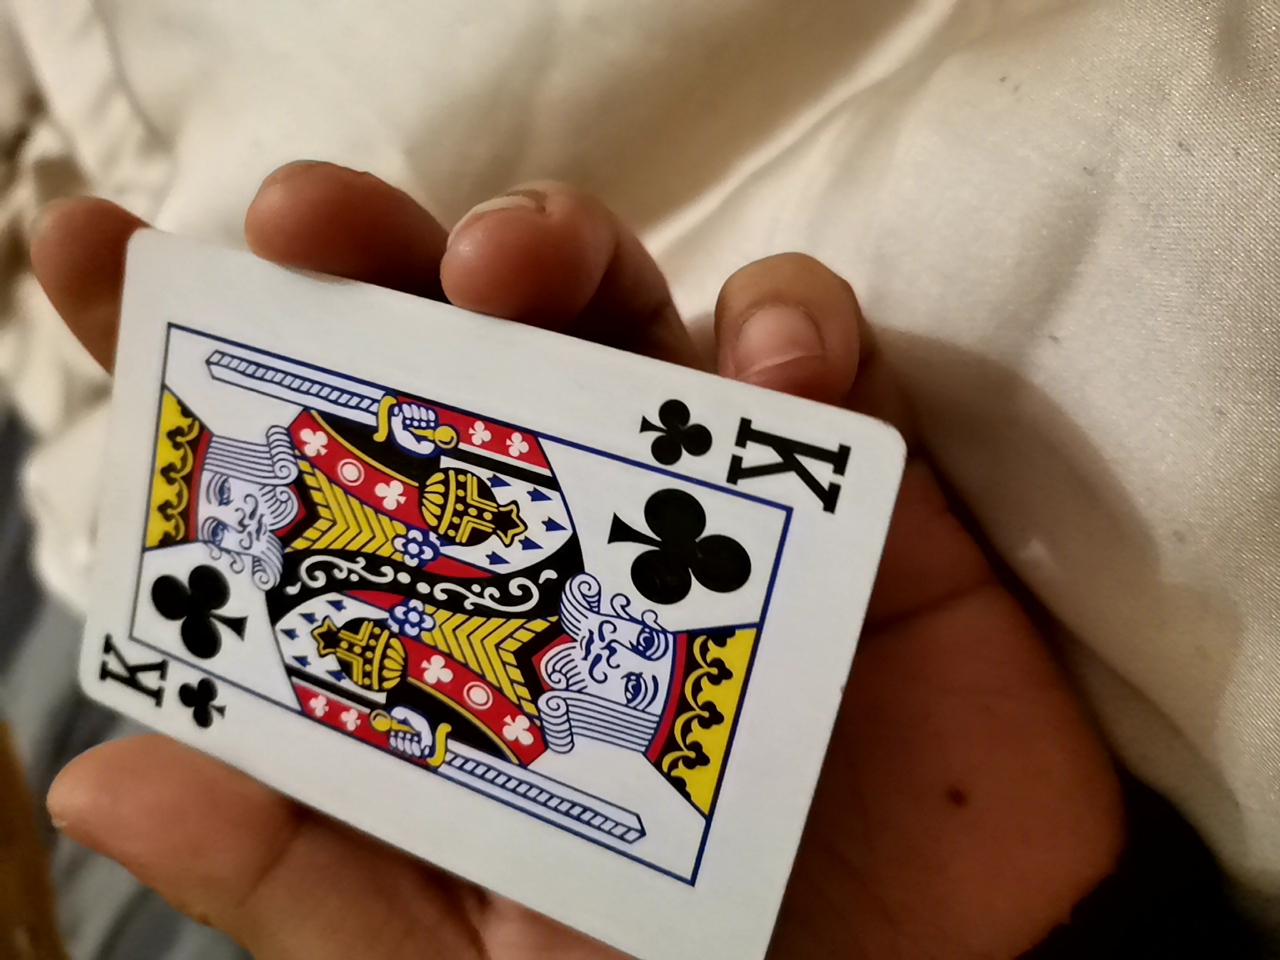mh k: (34, 234, 921, 959)
